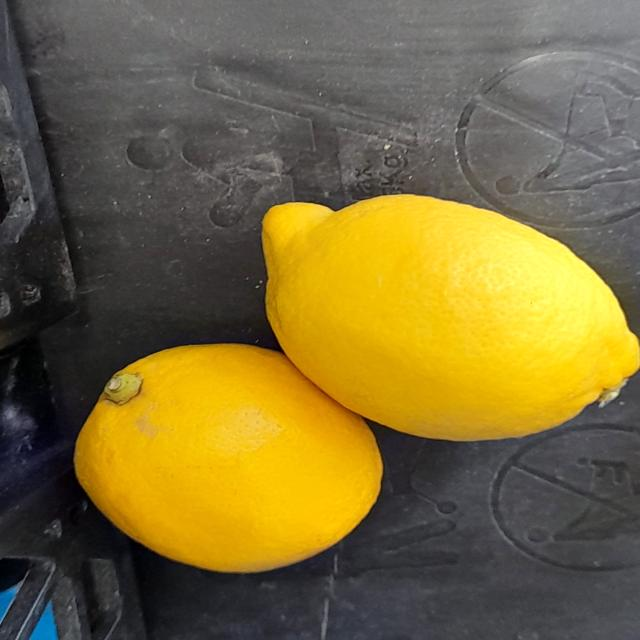lemon: (236, 176, 640, 446), (39, 333, 382, 574)
